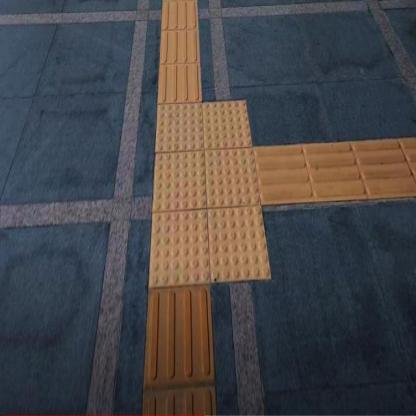podotacti: (125, 66, 291, 315), (264, 136, 416, 206), (144, 291, 216, 415), (156, 0, 203, 104)
